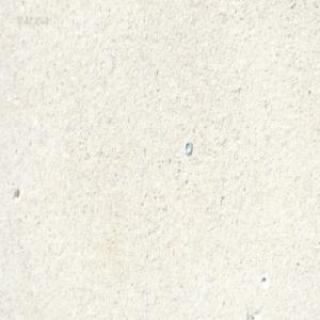Washertrack_idkeyframe: (184, 140, 192, 156)
